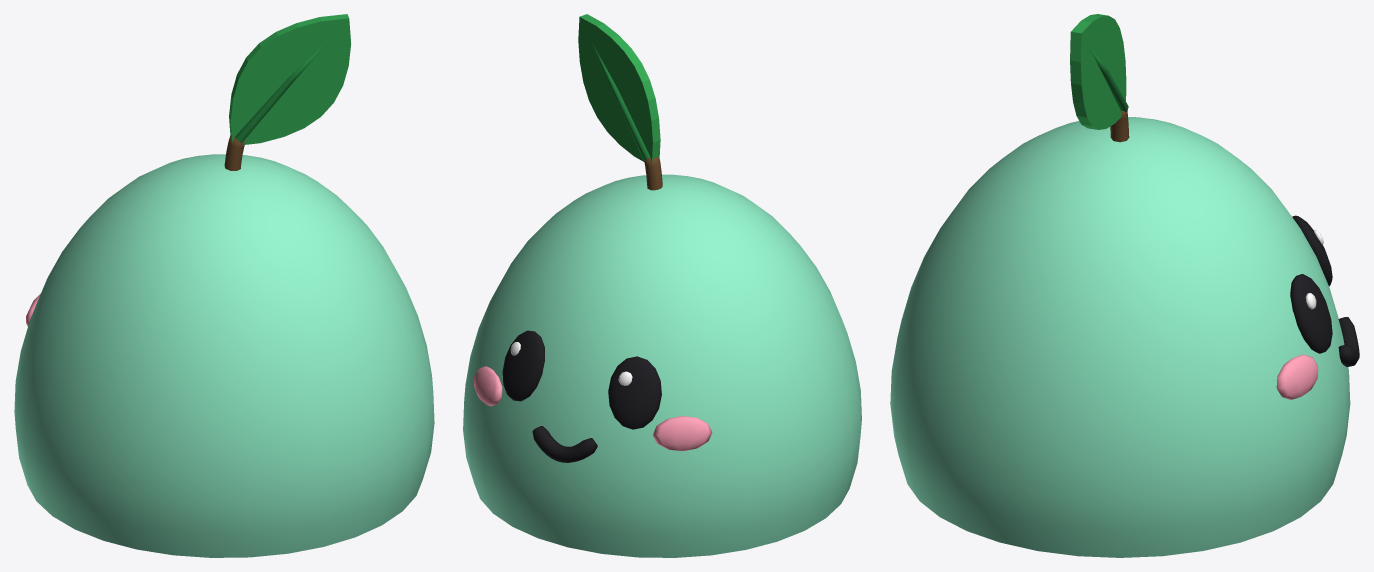
The model's file is Minty.glb.
3 renders of one model, left to right at view 1: azimuth 30°, elevation 25°; view 2: azimuth 150°, elevation 25°; view 3: azimuth 270°, elevation 25°, orthographic. The views are drawn at different scales.
Parts seen in each view (by area): view 1: Body, Leaf, LeafVein, Stem; view 2: Body, Leaf, Eyes, Cheeks, Mouth, LeafVein, Stem; view 3: Body, Leaf, Eyes, Cheeks, Mouth.
Part boxes in pixels (x1,y1,x2,y2): Body: [14, 154, 434, 557]; Leaf: [229, 14, 351, 144]; LeafVein: [235, 34, 334, 142]; Stem: [224, 135, 244, 170]; Body: [463, 174, 861, 557]; Leaf: [578, 14, 660, 162]; Eyes: [502, 330, 661, 429]; Cheeks: [474, 366, 712, 451]; Mouth: [532, 426, 597, 462]; LeafVein: [589, 37, 649, 160]; Stem: [644, 156, 662, 190]; Body: [890, 117, 1350, 557]; Leaf: [1070, 14, 1126, 129]; Eyes: [1290, 215, 1332, 353]; Cheeks: [1276, 354, 1318, 399]; Mouth: [1338, 317, 1359, 366].
Bounding box in the file's own units: 3.2 × 3.75 × 3.26.
